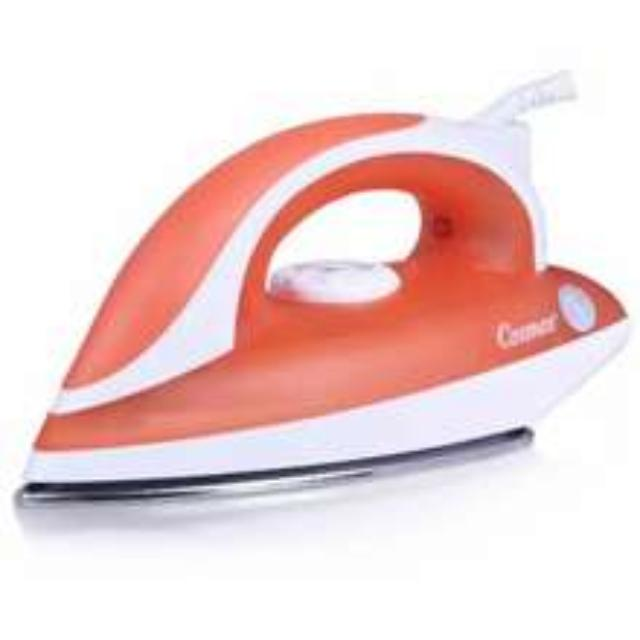Clothes-Iron: (118, 132, 586, 504)
